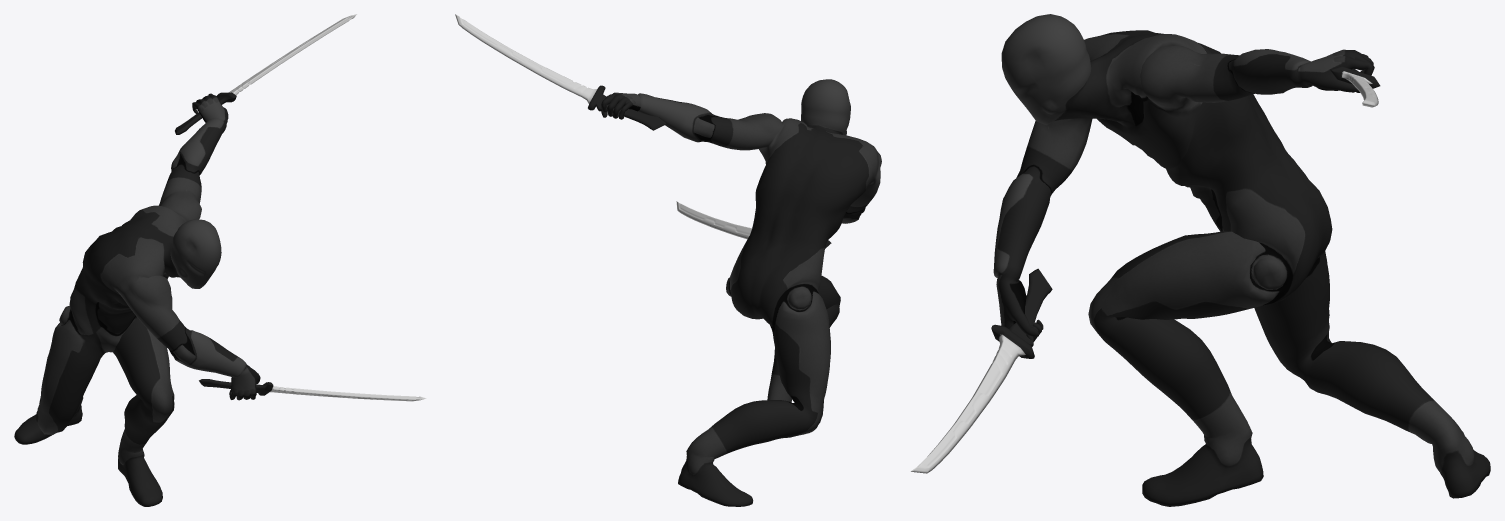
The picture shows the model from 3 angles, left to right: view 1: azimuth 30°, elevation 25°; view 2: azimuth 150°, elevation 25°; view 3: azimuth 270°, elevation 25°; orthographic projection. The views are drawn at different scales.
Parts seen in each view (by area): view 1: Cyborg_Ninja_Killer, Sword_l001, Sword_l; view 2: Cyborg_Ninja_Killer, Sword_l, Sword_l001; view 3: Cyborg_Ninja_Killer, Sword_l001, Sword_l.
Boxes of the visible parts, x1,y1,x2,y2 form: Cyborg_Ninja_Killer: [14, 93, 260, 506]; Sword_l001: [199, 379, 426, 401]; Sword_l: [175, 14, 356, 134]; Cyborg_Ninja_Killer: [601, 79, 881, 506]; Sword_l: [455, 14, 666, 130]; Sword_l001: [676, 201, 831, 248]; Cyborg_Ninja_Killer: [993, 14, 1490, 506]; Sword_l001: [911, 268, 1052, 473]; Sword_l: [1330, 66, 1380, 107].
Size of the model in its own units: 147 by 158 by 137.
2 materials, 2 textured.
